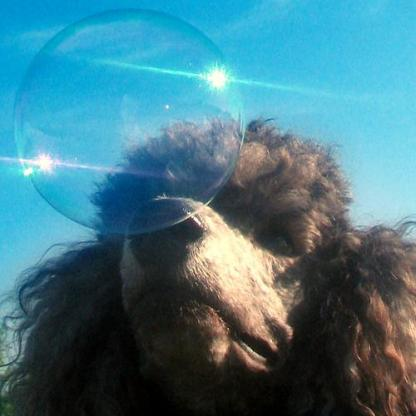standard_poodle: (0, 110, 414, 413)
